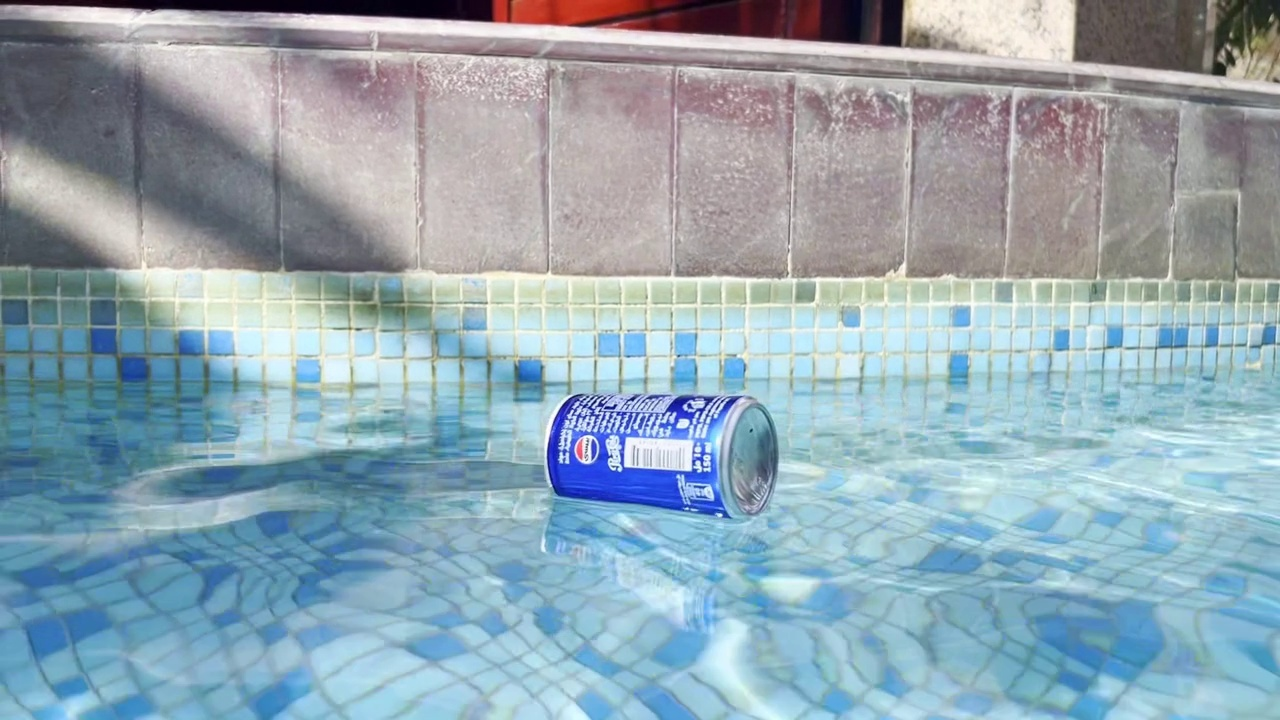debris: (540, 376, 783, 532)
